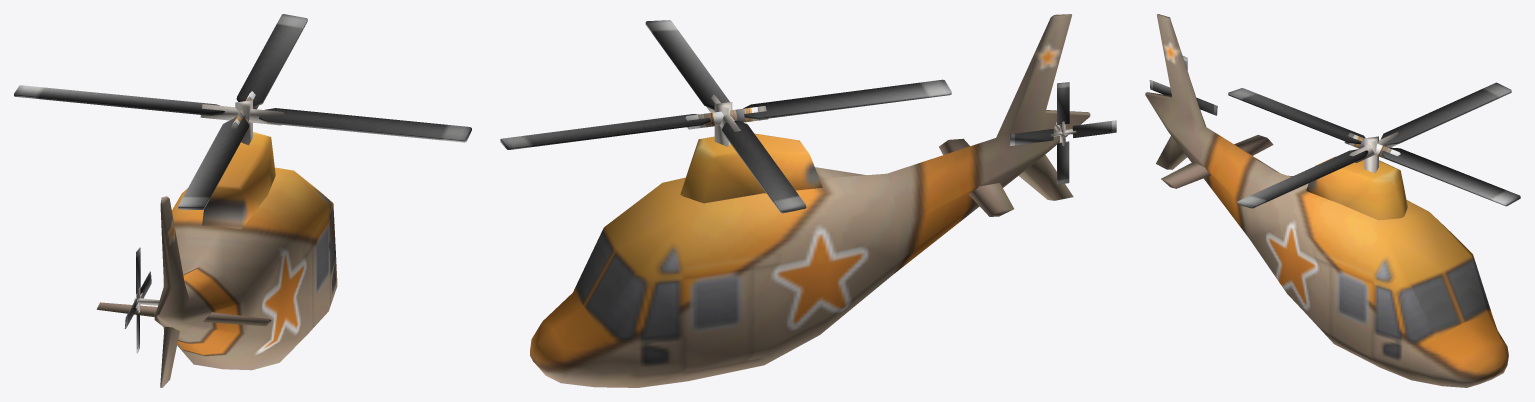
Rendered from puti.ico.obj.
3 views of the same model, side by side, from view 1: azimuth 30°, elevation 25°; view 2: azimuth 150°, elevation 25°; view 3: azimuth 270°, elevation 25° (orthographic). The views are drawn at different scales.
Size of the model in its own units: 3.82 by 2.65 by 3.7.
Materials: 1 (1 with a texture image).
